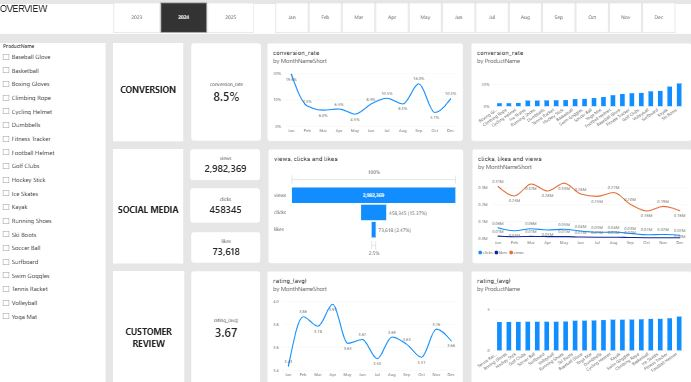

The page's visual inventory and layout, read from the dashboard file:
{"tool":"powerbi","page":{"name":"Overview","canvas":[1920,1080],"ordinal":0},"visuals":[{"type":"textbox","box":[0,10,1920,83.3],"z":0},{"type":"slicer","fields":{"Values":["products.ProductName"]},"box":[0,120,292.5,950],"z":1000},{"type":"textbox","box":[312.5,120,195,272.5],"z":2000},{"type":"textbox","box":[312.5,412.5,195,317.5],"z":3000},{"type":"textbox","box":[312.5,752.5,197.5,317.5],"z":4000},{"type":"cardVisual","fields":{"Data":["Calculations.conversion_rate"]},"box":[530,120,195,272.5],"z":5000},{"type":"cardVisual","fields":{"Data":["Calculations.views"]},"box":[527.5,412.5,195,87.5],"z":6000},{"type":"cardVisual","fields":{"Data":["Calculations.clicks"]},"box":[527.5,522.5,195,97.5],"z":7000},{"type":"cardVisual","fields":{"Data":["Calculations.likes"]},"box":[530,643.3,193.3,86.7],"z":8000},{"type":"cardVisual","fields":{"Data":["Calculations.rating_(avg)"]},"box":[530,753.3,193.3,316.7],"z":9000},{"type":"slicer","fields":{"Values":["Calendar.Year"]},"box":[293.3,6.7,430,86.7],"z":10000},{"type":"slicer","fields":{"Values":["Calendar.MonthNameShort"]},"box":[743.3,6.7,1150,86.7],"z":11000},{"type":"lineChart","fields":{"Category":["Calendar.MonthNameShort"],"Y":["Calculations.conversion_rate"]},"box":[742.5,120,545,272.5],"z":12000},{"type":"clusteredColumnChart","fields":{"Category":["products.ProductName"],"Y":["Calculations.conversion_rate"]},"box":[1307.5,120,612.5,272.5],"z":13000},{"type":"lineChart","fields":{"Category":["Calendar.MonthNameShort"],"Y":["Calculations.clicks","Calculations.likes","Calculations.views"]},"box":[1310,412.5,612.5,317.5],"z":14000},{"type":"funnel","fields":{"Y":["Calculations.views","Calculations.clicks","Calculations.likes"]},"box":[745,412.5,542.5,317.5],"z":15000},{"type":"lineChart","fields":{"Category":["Calendar.MonthNameShort"],"Y":["Calculations.rating_(avg)"]},"box":[742.5,752.5,545,317.5],"z":16000},{"type":"clusteredColumnChart","fields":{"Category":["products.ProductName"],"Y":["Calculations.rating_(avg)"]},"box":[1307.5,752.5,612.5,317.5],"z":17000}]}

Visuals, with their boxes in screenshot pixels (x1, y1, x2, y2), scaled from the page's 1920x1080 canvas onto the 691x382 screenshot:
textbox: detection(0, 4, 690, 33)
slicer - products.ProductName: detection(0, 42, 105, 378)
textbox: detection(112, 42, 183, 139)
textbox: detection(112, 146, 183, 258)
textbox: detection(112, 266, 184, 378)
cardVisual - Calculations.conversion_rate: detection(191, 42, 261, 139)
cardVisual - Calculations.views: detection(190, 146, 260, 177)
cardVisual - Calculations.clicks: detection(190, 185, 260, 219)
cardVisual - Calculations.likes: detection(191, 228, 260, 258)
cardVisual - Calculations.rating_(avg): detection(191, 266, 260, 378)
slicer - Calendar.Year: detection(106, 2, 260, 33)
slicer - Calendar.MonthNameShort: detection(268, 2, 681, 33)
lineChart - Calendar.MonthNameShort x Calculations.conversion_rate: detection(267, 42, 463, 139)
clusteredColumnChart - products.ProductName x Calculations.conversion_rate: detection(471, 42, 690, 139)
lineChart - Calendar.MonthNameShort x Calculations.clicks: detection(471, 146, 690, 258)
funnel - Calculations.views x Calculations.clicks: detection(268, 146, 463, 258)
lineChart - Calendar.MonthNameShort x Calculations.rating_(avg): detection(267, 266, 463, 378)
clusteredColumnChart - products.ProductName x Calculations.rating_(avg): detection(471, 266, 690, 378)
